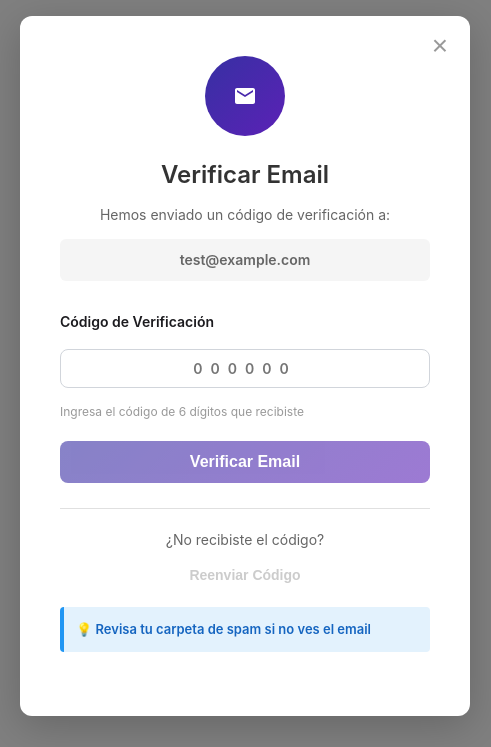
EmailVerificationModal Component › enables verify button when code is complete
Type "123456" into the field with placeholder "000000".
click(245, 369); type("123456")  # box top-left (60, 349), bottom-right (430, 388)
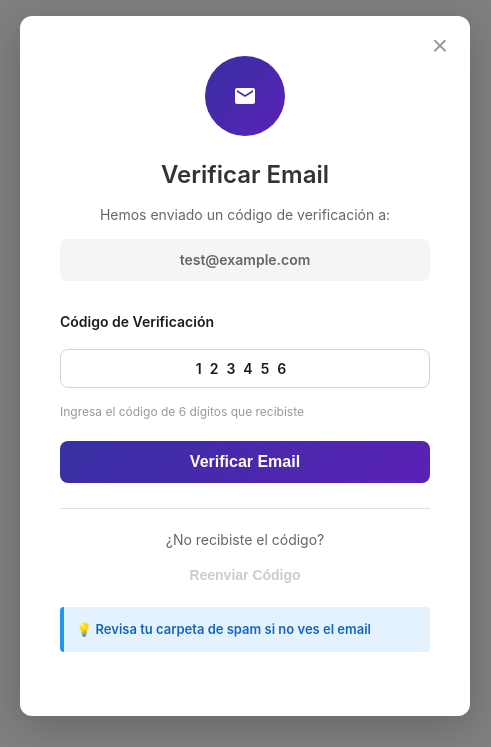
Expected: the button "Verificar Email" is enabled, top-left (60, 442), bottom-right (430, 484)
